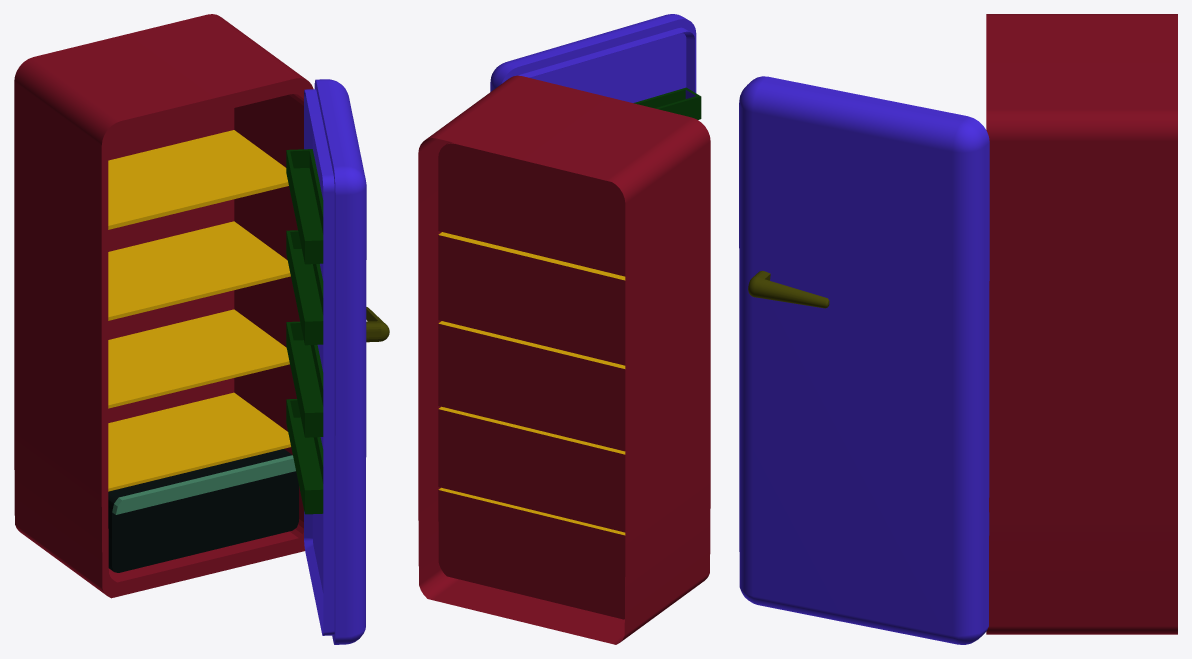
The model's file is fridge.fbx.
3 views of the same model, side by side, from view 1: azimuth 30°, elevation 25°; view 2: azimuth 150°, elevation 25°; view 3: azimuth 270°, elevation 25° (orthographic). The views are drawn at different scales.
Parts seen in each view (by area): view 1: pCube66, polySurface6, polySurface5; view 2: pCube66, polySurface6; view 3: polySurface6, pCube66.
Part boxes in pixels (x1,y1,x2,y2): pCube66: (14,14,313,598); polySurface6: (286,79,389,644); polySurface5: (108,449,298,572); pCube66: (418,75,710,644); polySurface6: (490,14,701,119); polySurface6: (739,76,989,644); pCube66: (986,14,1177,634).
Bounding box in the file's own units: 1.08 × 2.11 × 1.61.
